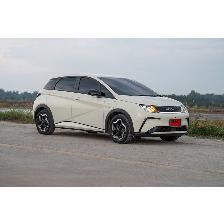EV: (34, 75, 191, 142)
